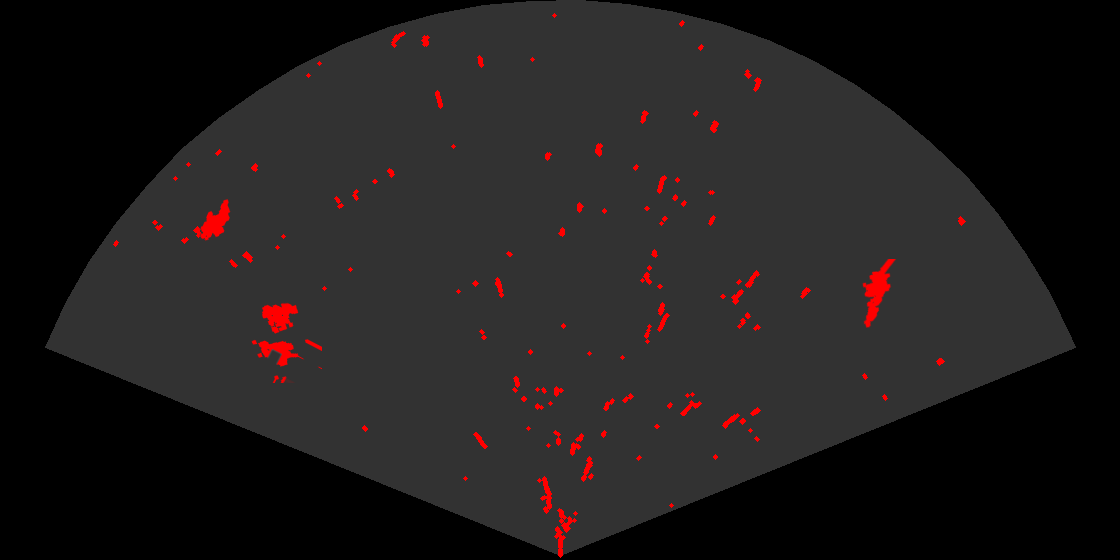AUV: (199, 198, 232, 242)
cage: (250, 301, 322, 383)
frogman: (861, 259, 898, 329)
